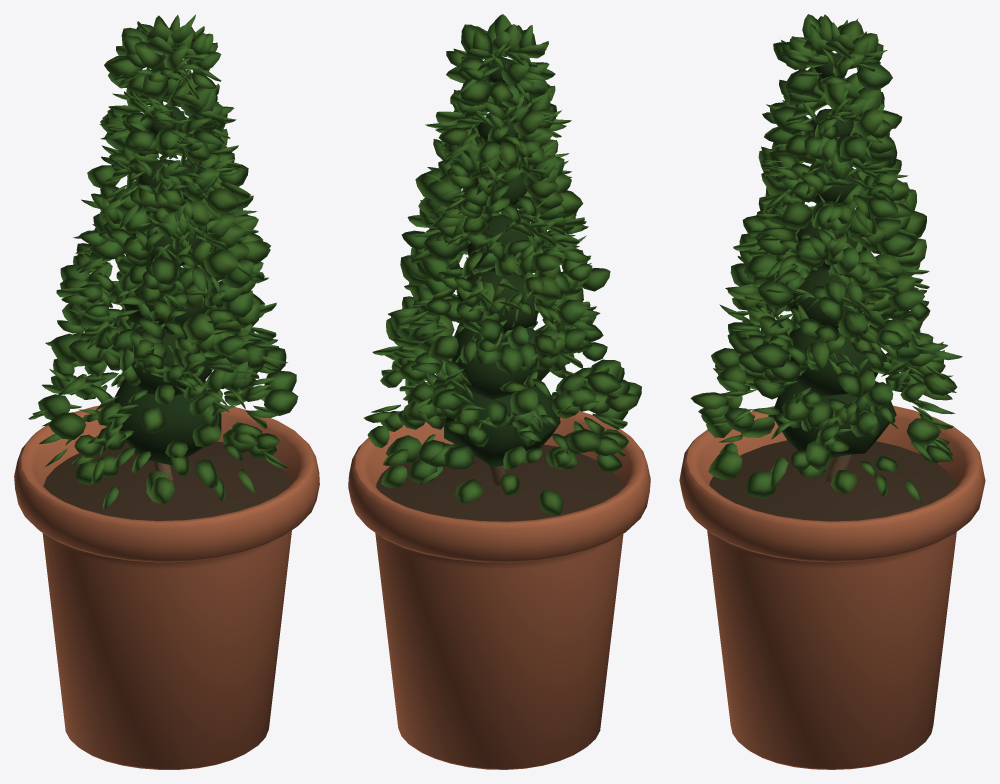
File: pot_cone.glb
3 views of the same model, side by side, from view 1: azimuth 30°, elevation 25°; view 2: azimuth 150°, elevation 25°; view 3: azimuth 270°, elevation 25° (orthographic).
Parts seen in each view (by area): view 1: Sammel Putz, Sammel Pflanze, Sammel Blatt; view 2: Sammel Putz, Sammel Pflanze, Sammel Blatt; view 3: Sammel Putz, Sammel Pflanze, Sammel Blatt.
Part boxes in pixels (bbox=[...]): Sammel Putz: bbox=[14, 404, 319, 769]; Sammel Pflanze: bbox=[28, 14, 298, 509]; Sammel Blatt: bbox=[114, 55, 221, 465]; Sammel Putz: bbox=[348, 411, 650, 769]; Sammel Pflanze: bbox=[364, 14, 641, 514]; Sammel Blatt: bbox=[444, 56, 560, 467]; Sammel Putz: bbox=[679, 405, 985, 769]; Sammel Pflanze: bbox=[690, 14, 962, 503]; Sammel Blatt: bbox=[771, 53, 896, 457].
Bounding box in the file's own units: 0.4787 × 1.22 × 0.4788.
